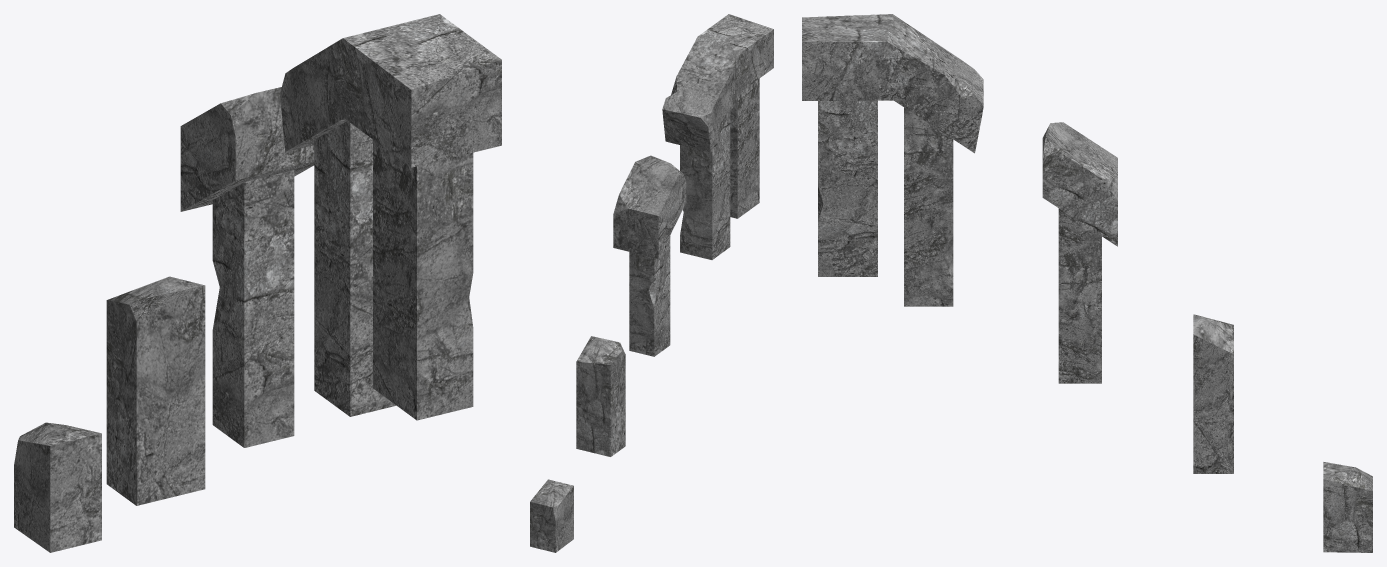
File: materials_3_handrail_8.fbx
3 renders of one model, left to right at view 1: azimuth 30°, elevation 25°; view 2: azimuth 150°, elevation 25°; view 3: azimuth 270°, elevation 25°, orthographic. The views are drawn at different scales.
Parts seen in each view (by area): view 1: materials_3_handrail_8; view 2: materials_3_handrail_8; view 3: materials_3_handrail_8.
Boxes of the visible parts, <box> form: materials_3_handrail_8: <box>14,14,501,552</box>; materials_3_handrail_8: <box>530,14,773,552</box>; materials_3_handrail_8: <box>802,14,1372,552</box>.
Bounding box in the file's own units: 22.71 × 177 × 177.
